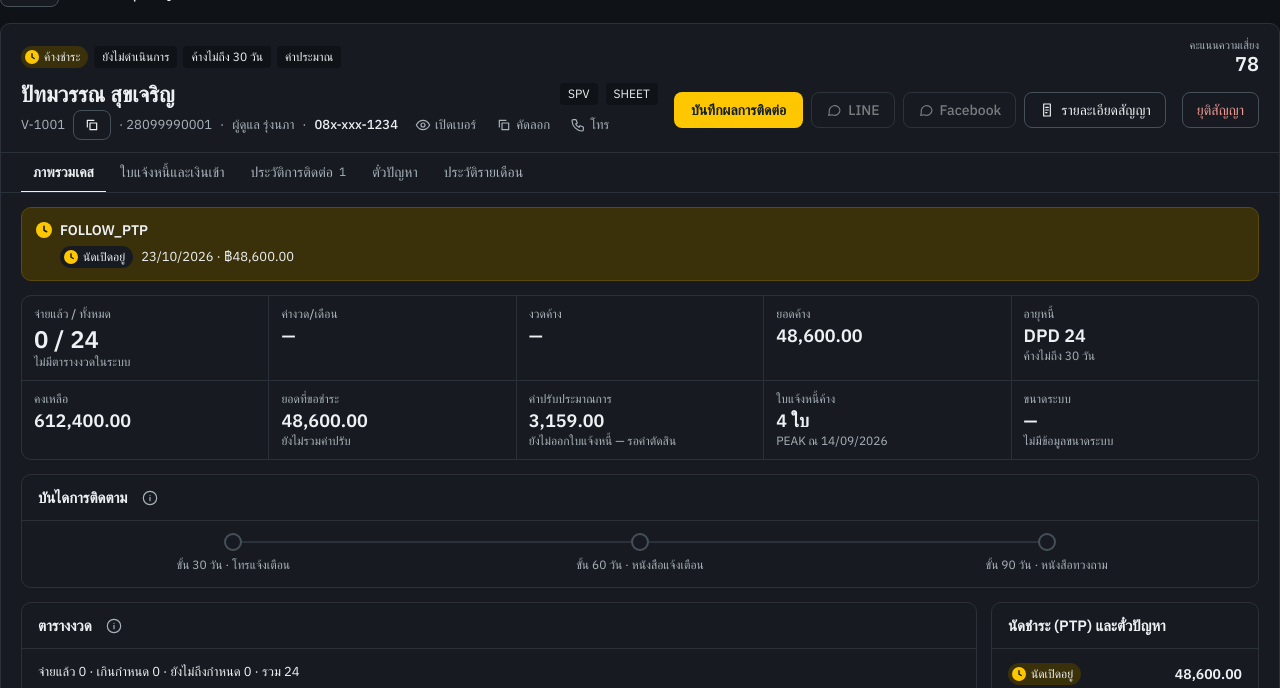
Test: the amount-led payment claim on the customer case › does not allow saving until an allocation preview succeeds
Click the tab "ใบแจ้งหนี้และเงินเข้า".
click(172, 173)  # box top-left (108, 153), bottom-right (236, 193)
(page scrolled)
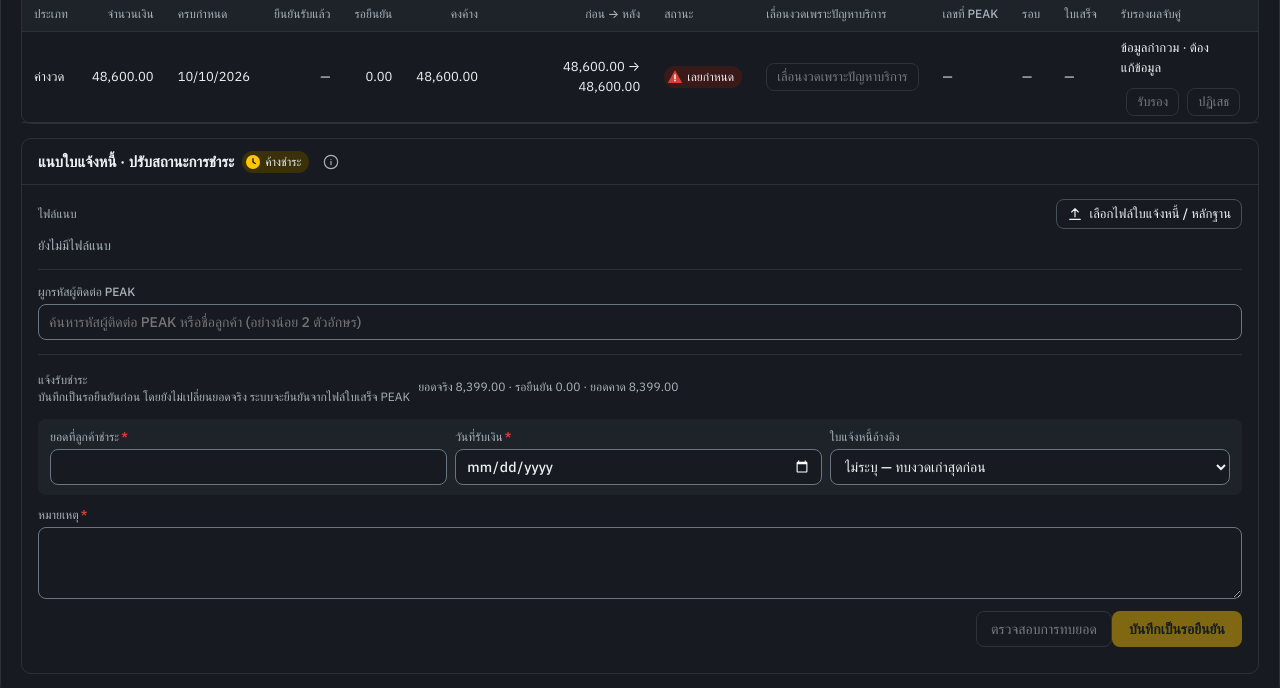
Check: the button "บันทึกเป็นรอยืนยัน" is disabled, box top-left (1112, 611), bottom-right (1242, 647)
